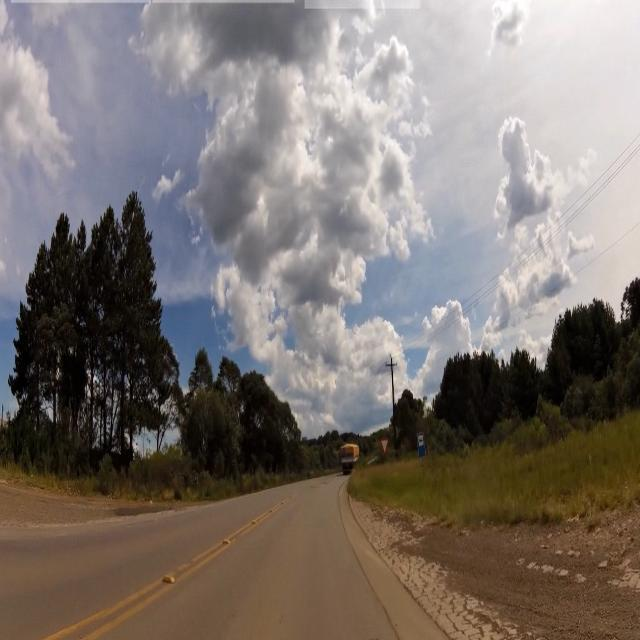R-2: (380, 436, 390, 458)
S-14: (418, 433, 428, 460)
